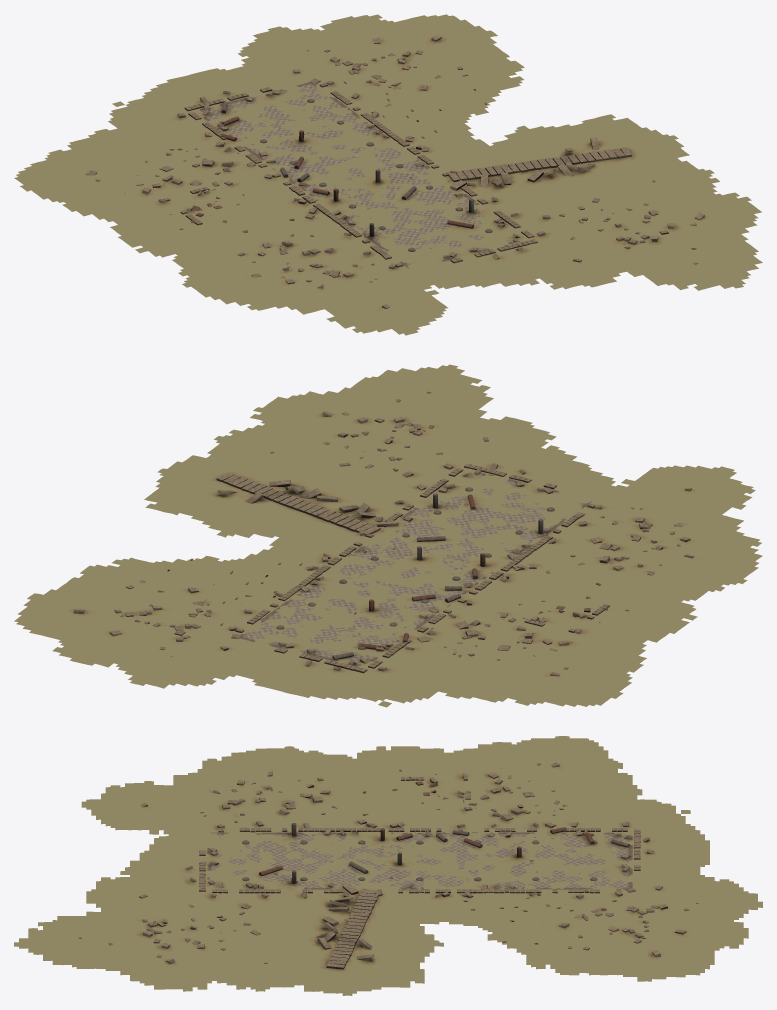
3 views of the same model, one above another, from view 1: azimuth 30°, elevation 25°; view 2: azimuth 150°, elevation 25°; view 3: azimuth 270°, elevation 25° (orthographic). The views are drawn at different scales.
Visible parts, largest first — view 1: sediment, paving, palace, blocks, jetty, columns; view 2: sediment, paving, palace, blocks, jetty, columns; view 3: sediment, paving, palace, blocks, jetty, columns, temple_of_isis.
Boxes of the visible parts, <box> form: sediment: <box>14,14,762,335</box>; paving: <box>200,82,520,268</box>; palace: <box>177,81,545,268</box>; blocks: <box>85,34,704,308</box>; jetty: <box>447,137,631,190</box>; columns: <box>221,98,492,251</box>; sediment: <box>14,364,762,707</box>; paving: <box>240,473,592,666</box>; palace: <box>229,463,602,673</box>; blocks: <box>73,391,694,676</box>; jetty: <box>216,472,398,535</box>; columns: <box>276,487,554,659</box>; sediment: <box>14,736,762,995</box>; paving: <box>207,832,632,889</box>; palace: <box>185,821,654,898</box>; blocks: <box>78,762,698,963</box>; jetty: <box>316,883,380,969</box>; columns: <box>242,823,629,883</box>; temple_of_isis: <box>362,769,470,809</box>.
Size of the model in its own units: 127 by 3.84 by 155.
3 materials, 1 textured.
